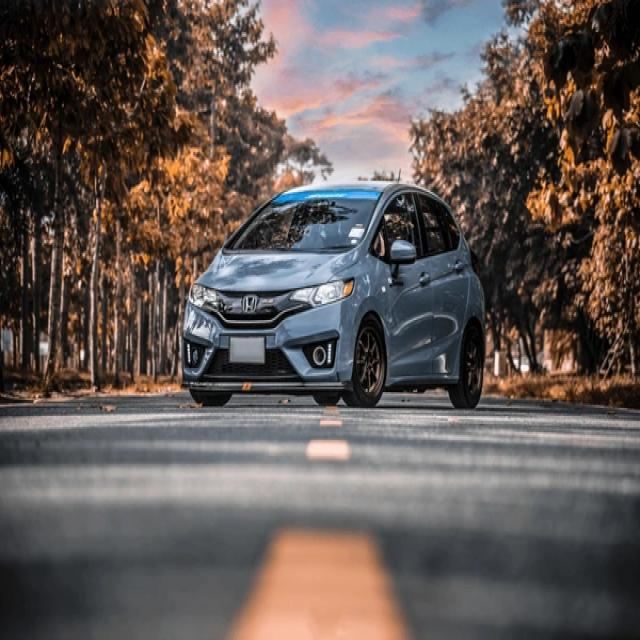honda: (240, 293, 259, 314)
